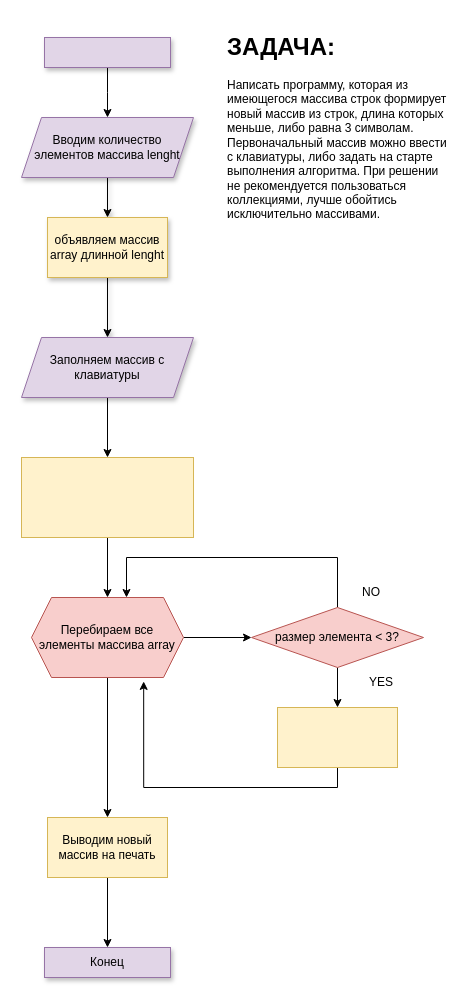
Image size: 470x1002. Some labels were removed from this diagram. Here are the shapes that lost their labels. From the top down, the centre of each, then its label:
the point at 108,53: начало
the point at 107,497: объявляем новый массив newArray
the point at 337,737: записываем элемент в новый массив
